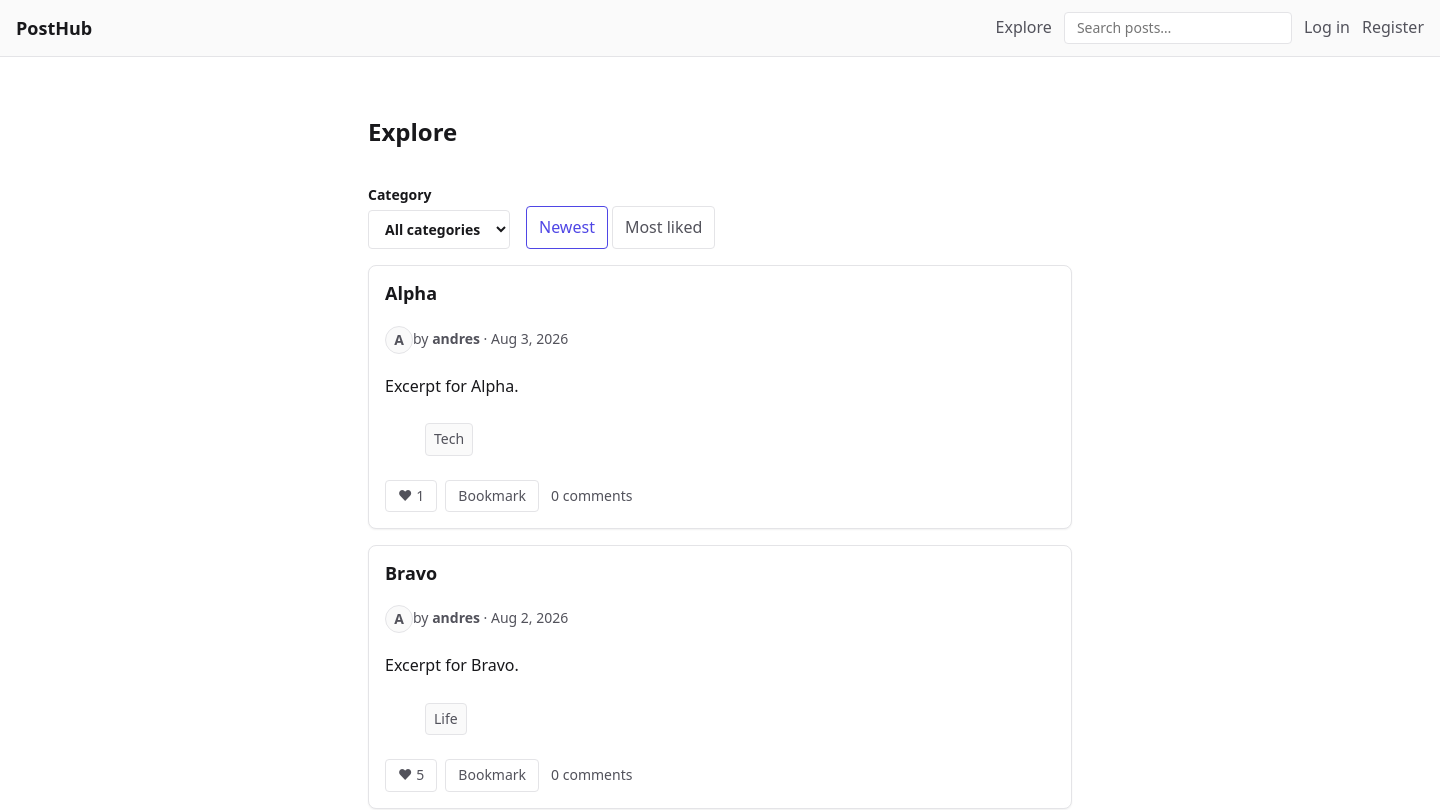
Test: Explore › reorders by most-liked
The width and height of the screenshot is (1440, 810).
Expected: the link "Alpha" is shown, [385, 281, 437, 305]
Click the button "Most liked".
click(664, 227)  # box [612, 206, 715, 249]
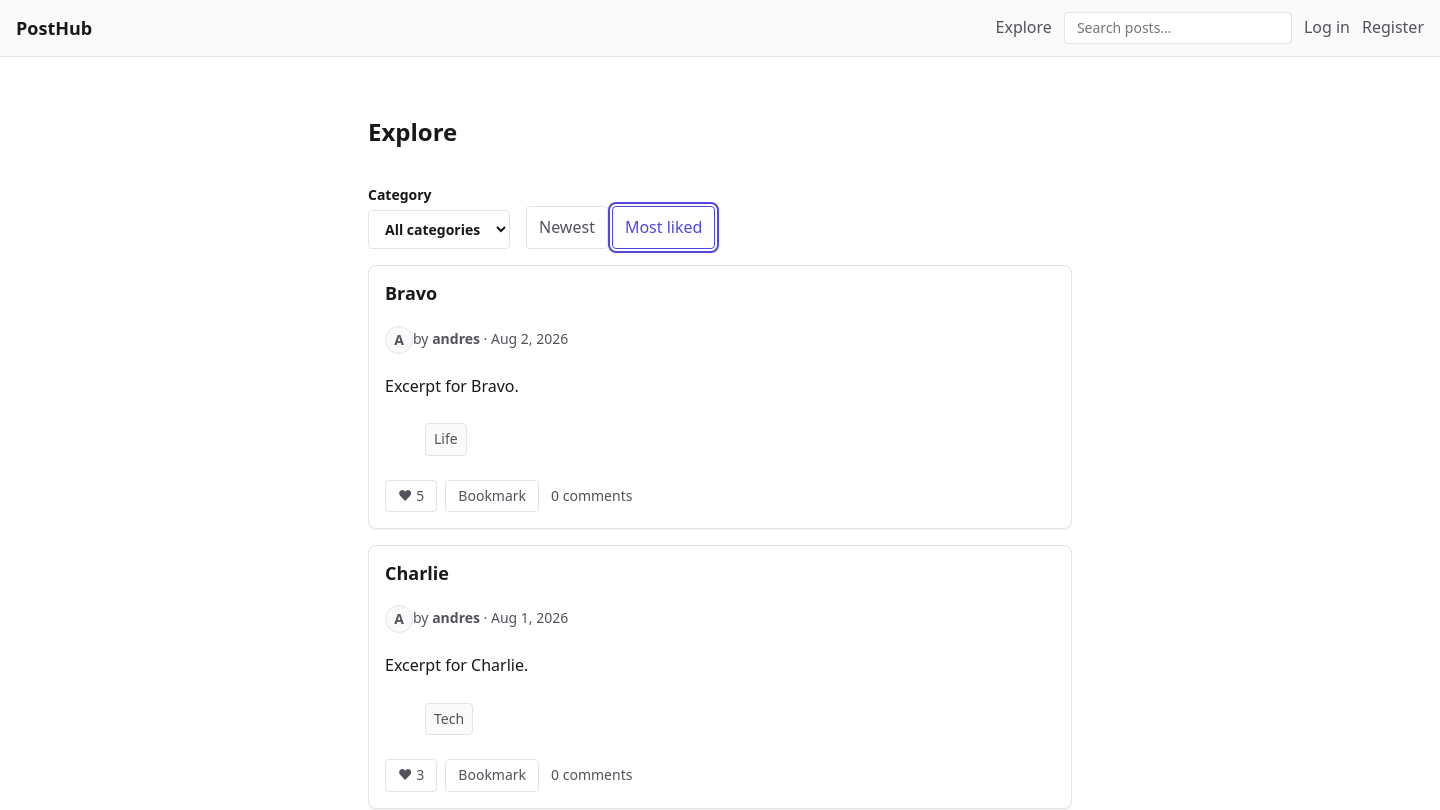
Expected: the link "Charlie" is shown, [385, 561, 449, 585]
Expected: the link "Alpha" is gone
